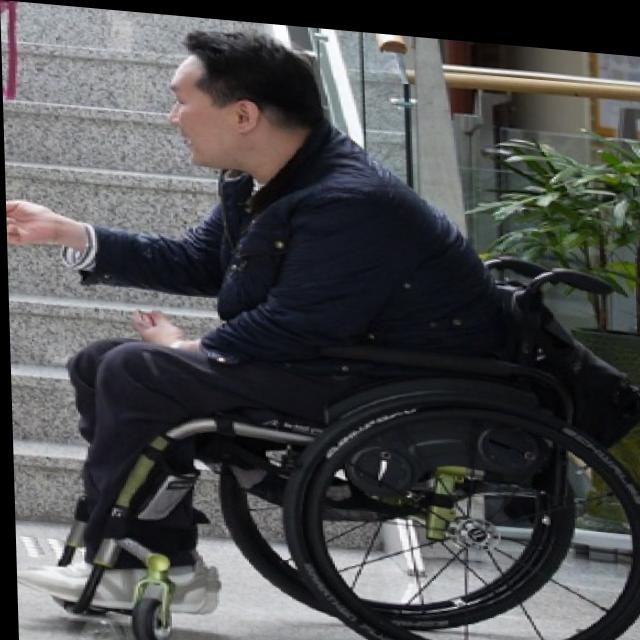wheelchair: (10, 8, 640, 640)
